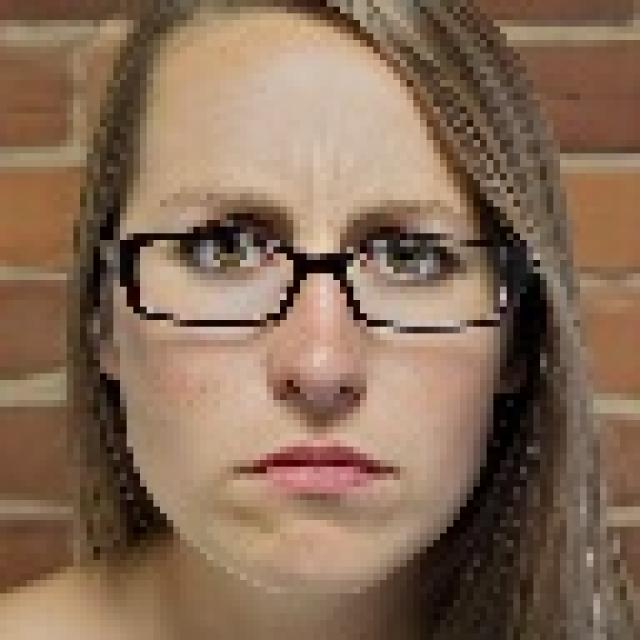angry: (77, 5, 536, 640)
